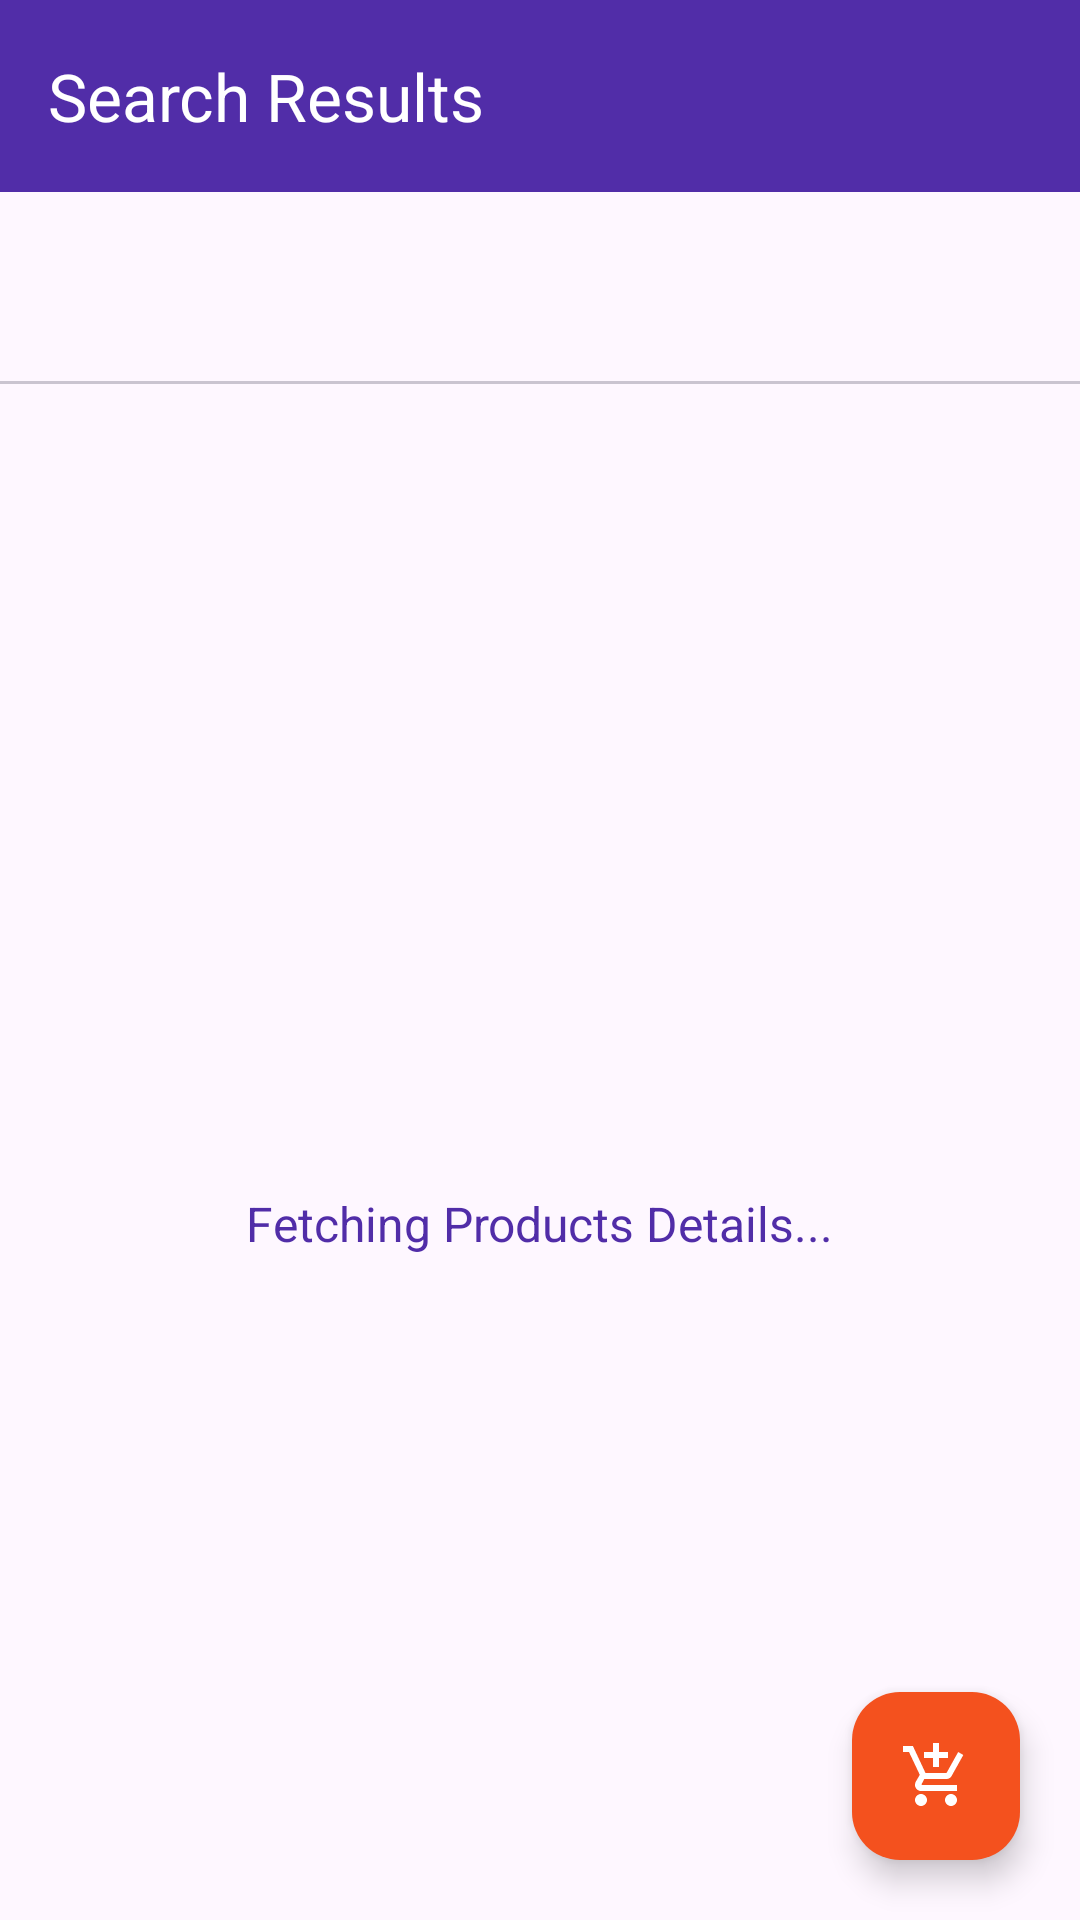

Icon bounding boxes for this 1080px×1920px phone screenshot, format (x1, y1, x2, y2):
cart plus: (852, 1692, 1020, 1860)
